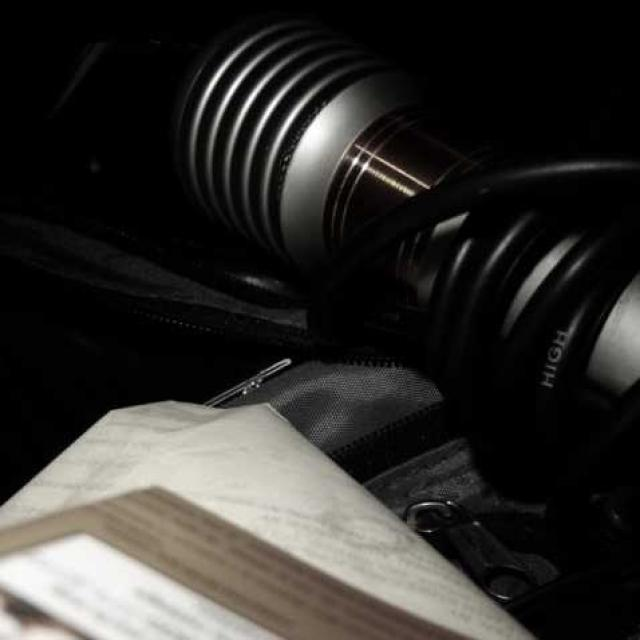microphone: (150, 4, 513, 307)
